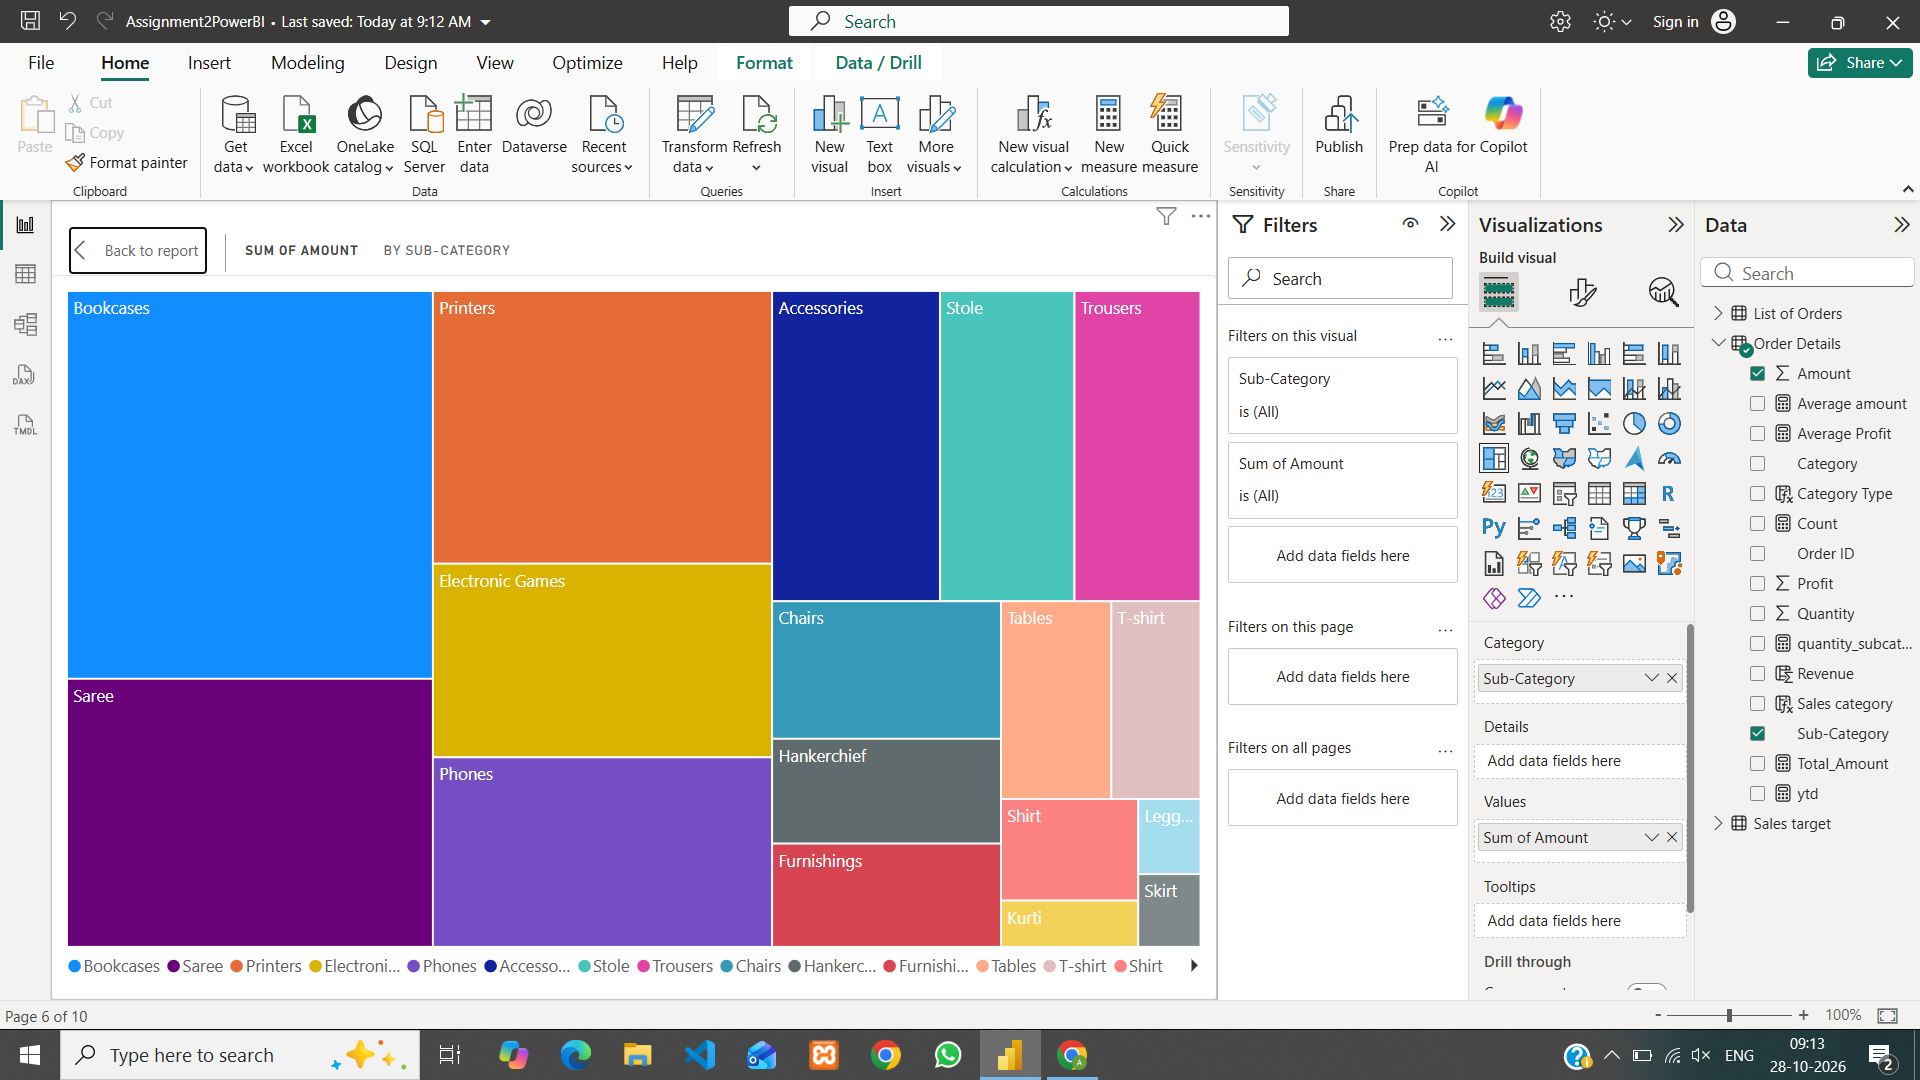

The dashboard page shown, as its layout file describes it:
{"tool":"powerbi","page":{"name":"TreeMap","canvas":[1920,1080],"ordinal":5},"visuals":[{"type":"treemap","fields":{"Group":["Order Details.Sub-Category"],"Values":["Sum(Order Details.Amount)"]},"box":[10.3,0,1788.7,1012.7],"z":0}]}

Visuals, with their boxes on the page's 1920x1080 design canvas (x1, y1, x2, y2). These are canvas units, not pixel positions in the 1920x1080 screenshot, which may show the page scaled, cropped or inside an application window:
treemap - Order Details.Sub-Category x Sum(Order Details.Amount): [left=10, top=0, right=1799, bottom=1013]
